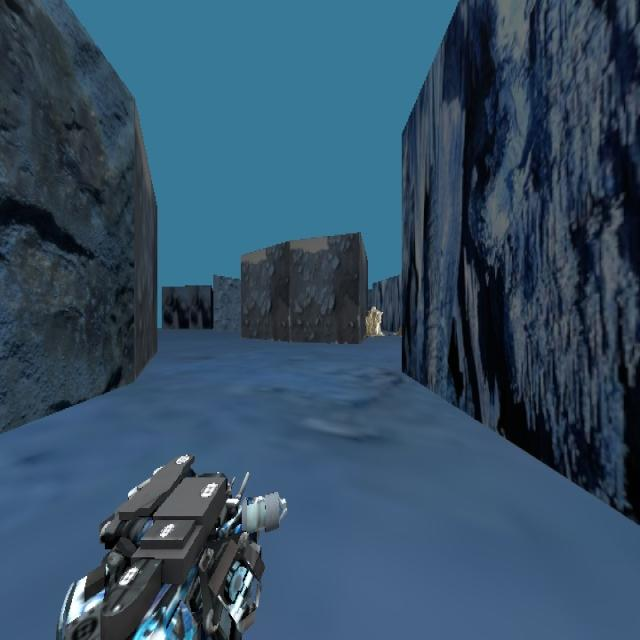Ice: (345, 287, 417, 352)
